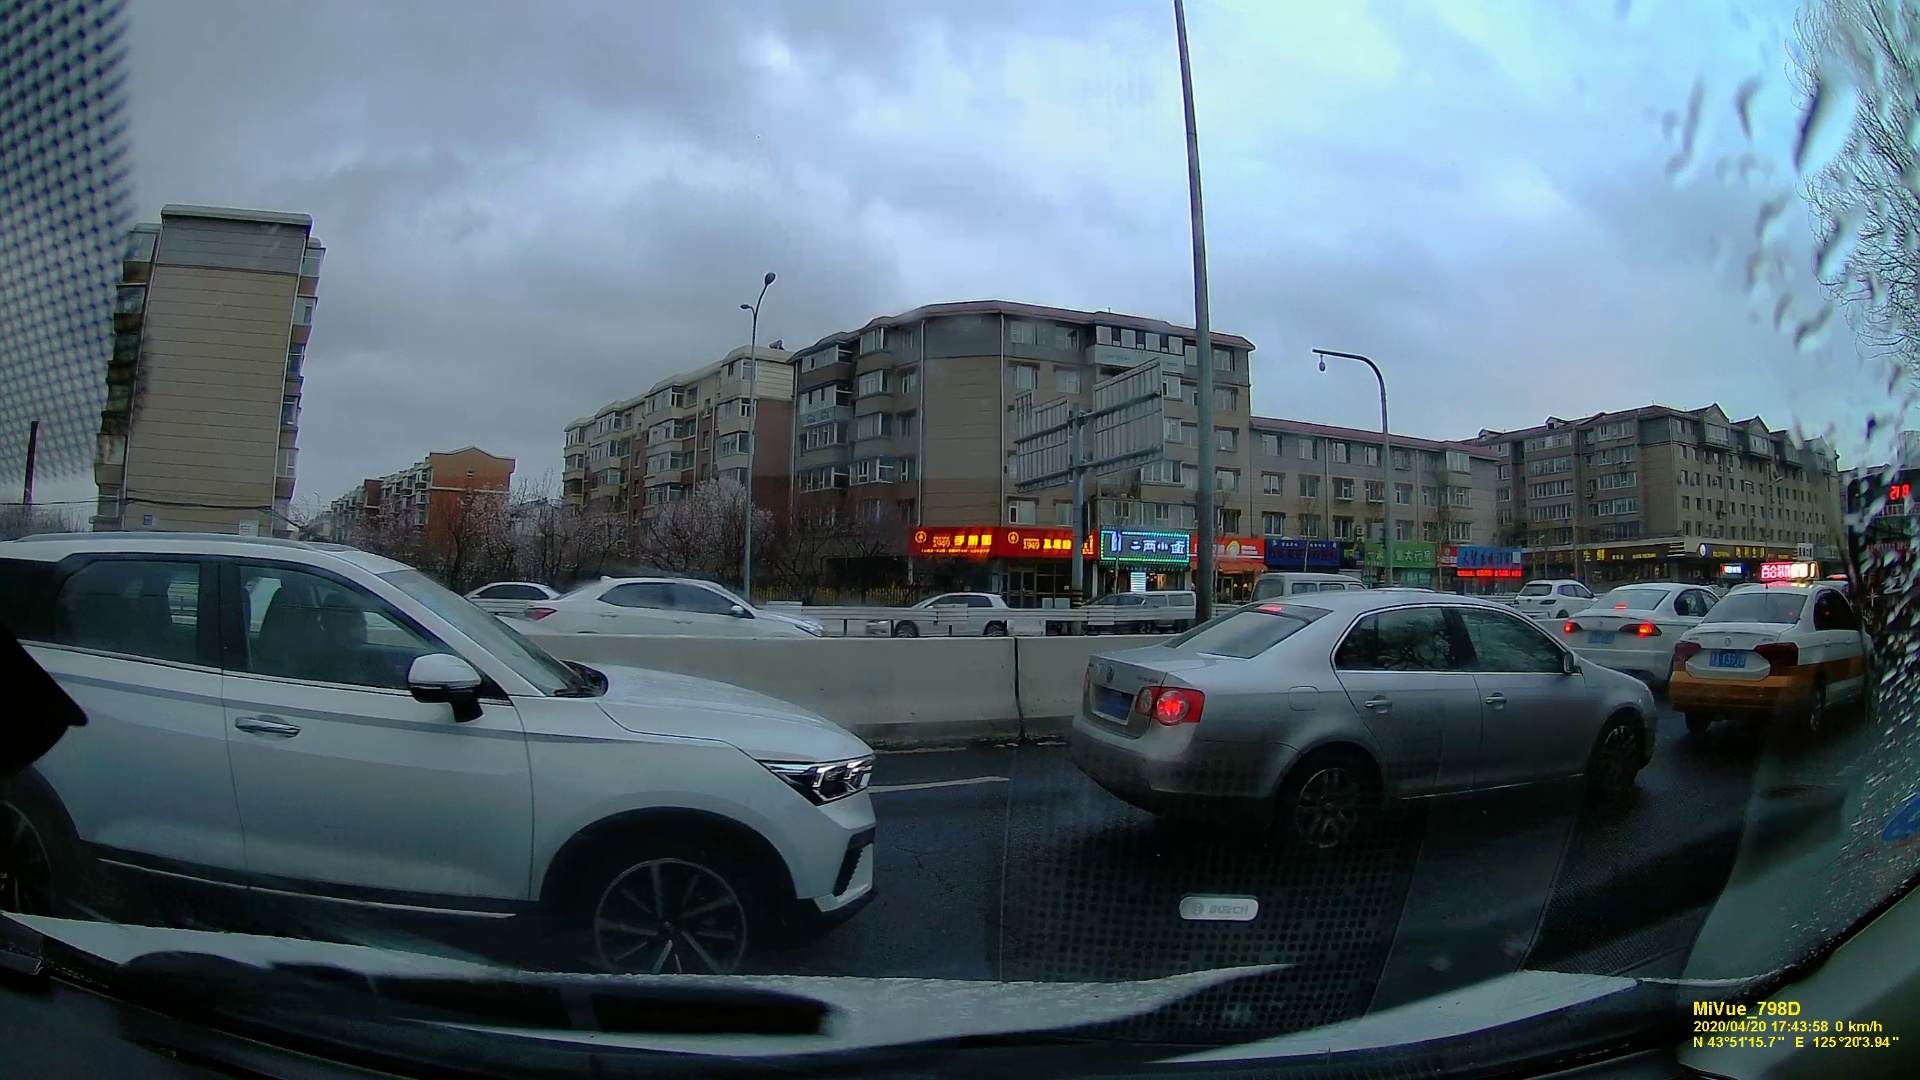vehicle: (11, 527, 877, 960), (1048, 568, 1656, 837), (1677, 578, 1873, 741), (481, 572, 827, 654), (1578, 578, 1724, 686), (874, 592, 1013, 640), (1520, 578, 1604, 608)
